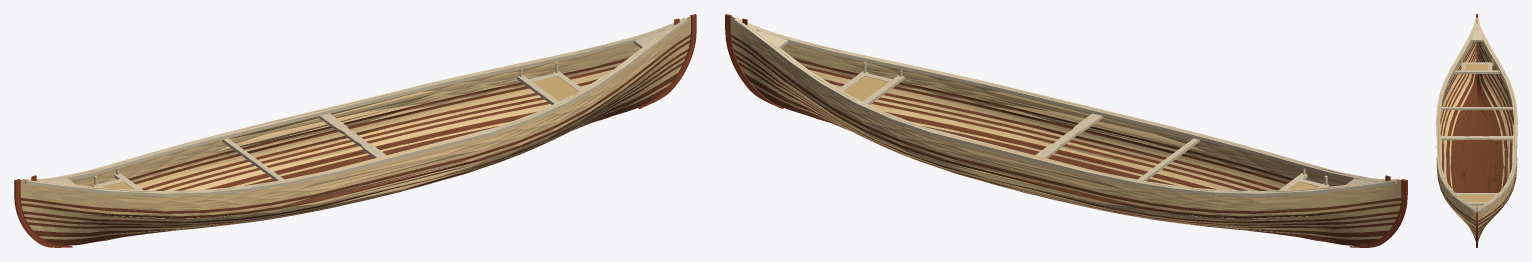
Rendered from canoe_full.glb.
The picture shows the model from 3 angles, left to right: view 1: azimuth 30°, elevation 25°; view 2: azimuth 150°, elevation 25°; view 3: azimuth 270°, elevation 25°; orthographic projection. The views are drawn at different scales.
Parts seen in each view (by area): view 1: outwale_P, inwale_S, strip_P04_light, strip_P08_dark, strip_P03_light, strip_P06_light, strip_P05_light, strip_P07_light, strip_P10_dark, strip_P09_light, strip_P11_light, strip_P12_light (+43 smaller); view 2: outwale_S, inwale_P, strip_S04_light, strip_S08_dark, strip_S03_light, strip_S05_light, strip_S06_light, strip_S07_light, strip_S10_dark, strip_S09_light, strip_S11_light, strip_S12_light (+43 smaller); view 3: outwale_S, outwale_P, inwale_S, inwale_P, yoke, strip_S01_light, strip_P01_light, strip_S20_dark, strip_P20_dark, strip_S22_light, strip_P22_light, strip_S24_dark (+74 smaller).
Boxes of the visible parts, x1=… form: outwale_P: x1=25, y1=19, x2=687, y2=196; inwale_S: x1=26, y1=19, x2=686, y2=181; strip_P04_light: x1=20, y1=24, x2=690, y2=203; strip_P08_dark: x1=21, y1=34, x2=690, y2=213; strip_P03_light: x1=20, y1=21, x2=690, y2=200; strip_P06_light: x1=20, y1=29, x2=690, y2=208; strip_P05_light: x1=20, y1=26, x2=690, y2=205; strip_P07_light: x1=20, y1=32, x2=690, y2=211; strip_P10_dark: x1=21, y1=40, x2=690, y2=218; strip_P09_light: x1=21, y1=37, x2=690, y2=216; strip_P11_light: x1=22, y1=43, x2=689, y2=220; strip_P12_light: x1=22, y1=46, x2=688, y2=221; outwale_S: x1=734, y1=19, x2=1396, y2=196; inwale_P: x1=735, y1=19, x2=1396, y2=181; strip_S04_light: x1=731, y1=24, x2=1401, y2=203; strip_S08_dark: x1=731, y1=34, x2=1400, y2=213; strip_S03_light: x1=731, y1=21, x2=1401, y2=200; strip_S05_light: x1=731, y1=26, x2=1401, y2=205; strip_S06_light: x1=731, y1=29, x2=1401, y2=208; strip_S07_light: x1=731, y1=32, x2=1401, y2=211; strip_S10_dark: x1=731, y1=40, x2=1400, y2=218; strip_S09_light: x1=731, y1=37, x2=1400, y2=216; strip_S11_light: x1=732, y1=43, x2=1400, y2=220; strip_S12_light: x1=732, y1=46, x2=1399, y2=221; outwale_S: x1=1477, y1=18, x2=1517, y2=213; outwale_P: x1=1436, y1=18, x2=1476, y2=213; inwale_S: x1=1475, y1=18, x2=1514, y2=211; inwale_P: x1=1439, y1=18, x2=1478, y2=211; yoke: x1=1441, y1=136, x2=1512, y2=140; strip_S01_light: x1=1477, y1=17, x2=1516, y2=209; strip_P01_light: x1=1437, y1=17, x2=1476, y2=209; strip_S20_dark: x1=1477, y1=61, x2=1507, y2=238; strip_P20_dark: x1=1446, y1=61, x2=1476, y2=238; strip_S22_light: x1=1478, y1=74, x2=1504, y2=240; strip_P22_light: x1=1449, y1=74, x2=1475, y2=240; strip_S24_dark: x1=1477, y1=76, x2=1501, y2=192.
Size of the model in its own units: 5182 by 635 by 900.
